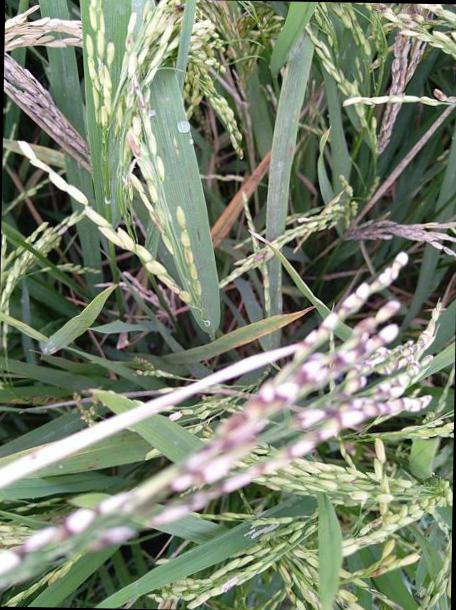Panicle Blight: (171, 300, 400, 491), (188, 395, 427, 511), (293, 252, 409, 364), (296, 355, 433, 428), (333, 320, 434, 395), (55, 508, 102, 543), (86, 526, 135, 549), (0, 544, 28, 575), (369, 588, 407, 610), (132, 72, 147, 115), (127, 126, 141, 161), (358, 517, 383, 536), (149, 206, 165, 235), (171, 1, 182, 25), (369, 567, 387, 578), (433, 88, 447, 101), (126, 28, 134, 50), (428, 3, 442, 15), (255, 252, 267, 265), (370, 567, 383, 578), (282, 560, 292, 573), (288, 587, 296, 603), (372, 4, 388, 12), (410, 13, 424, 22), (261, 269, 268, 287), (0, 542, 9, 549), (446, 602, 451, 610), (0, 528, 5, 534)
